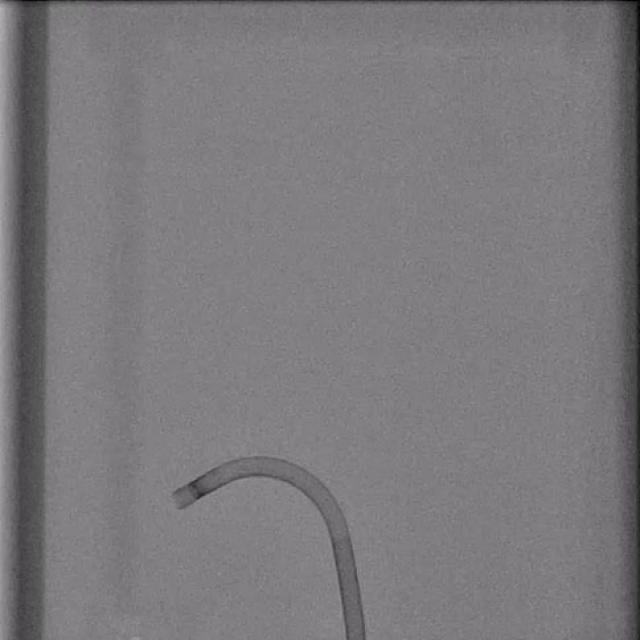bend: (328, 526, 350, 538)
entry: (347, 634, 366, 640)
marker: (187, 481, 204, 501)
tip: (172, 492, 184, 508)
